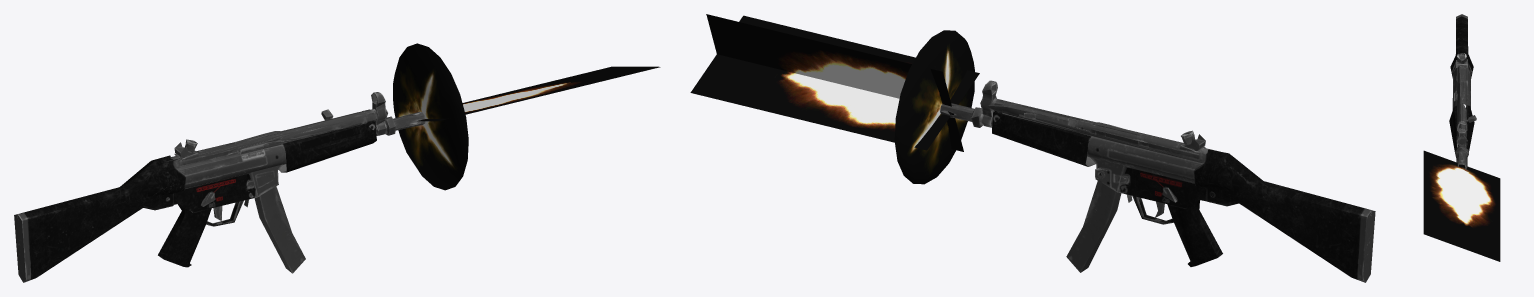
The picture shows the model from 3 angles, left to right: view 1: azimuth 30°, elevation 25°; view 2: azimuth 150°, elevation 25°; view 3: azimuth 270°, elevation 25°; orthographic projection. The views are drawn at different scales.
Parts seen in each view (by area): view 1: MP5_Decimated, MuzzleFlash; view 2: MP5_Decimated, MuzzleFlash; view 3: MuzzleFlash, MP5_Decimated.
Part boxes in pixels (box(x1,y1,x2,y2)): MP5_Decimated: box(14, 92, 425, 282); MuzzleFlash: box(393, 43, 660, 190); MP5_Decimated: box(940, 80, 1375, 282); MuzzleFlash: box(690, 14, 979, 184); MuzzleFlash: box(1423, 150, 1500, 261); MP5_Decimated: box(1449, 14, 1476, 169).
Size of the model in its own units: 1.18 by 0.3431 by 0.2486.
2 materials, 2 textured.
